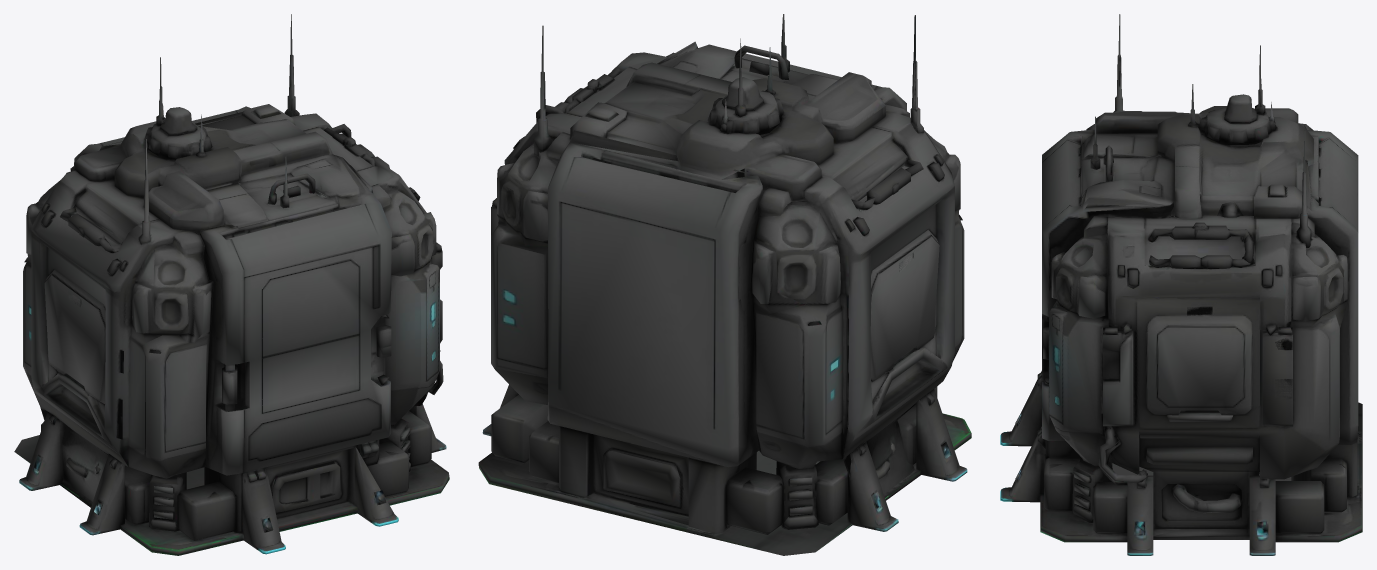
The model's file is selected.glb.
3 views of the same model, side by side, from view 1: azimuth 30°, elevation 25°; view 2: azimuth 150°, elevation 25°; view 3: azimuth 270°, elevation 25° (orthographic). The views are drawn at different scales.
Parts seen in each view (by area): view 1: tripo_node_30c2c94c-8858-4f44-a0fc-9b8102cdf103; view 2: tripo_node_30c2c94c-8858-4f44-a0fc-9b8102cdf103; view 3: tripo_node_30c2c94c-8858-4f44-a0fc-9b8102cdf103.
Part boxes in pixels (left/top/right/bottom): tripo_node_30c2c94c-8858-4f44-a0fc-9b8102cdf103: left=14, top=14, right=449, bottom=555; tripo_node_30c2c94c-8858-4f44-a0fc-9b8102cdf103: left=478, top=14, right=971, bottom=555; tripo_node_30c2c94c-8858-4f44-a0fc-9b8102cdf103: left=1000, top=14, right=1362, bottom=555.
Size of the model in its own units: 0.9355 by 0.998 by 0.8145.
Materials: 1 (1 with a texture image).
